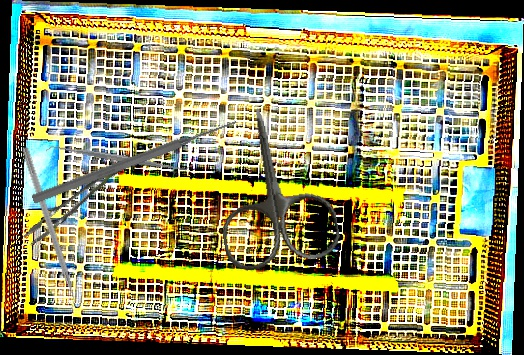Chopper: (12, 145, 82, 317)
Iris Scissors: (202, 98, 343, 274)
Pusher: (30, 115, 239, 207)
Spatula Surgical: (45, 137, 194, 179)
Tissue Forceps: (15, 154, 143, 247)
